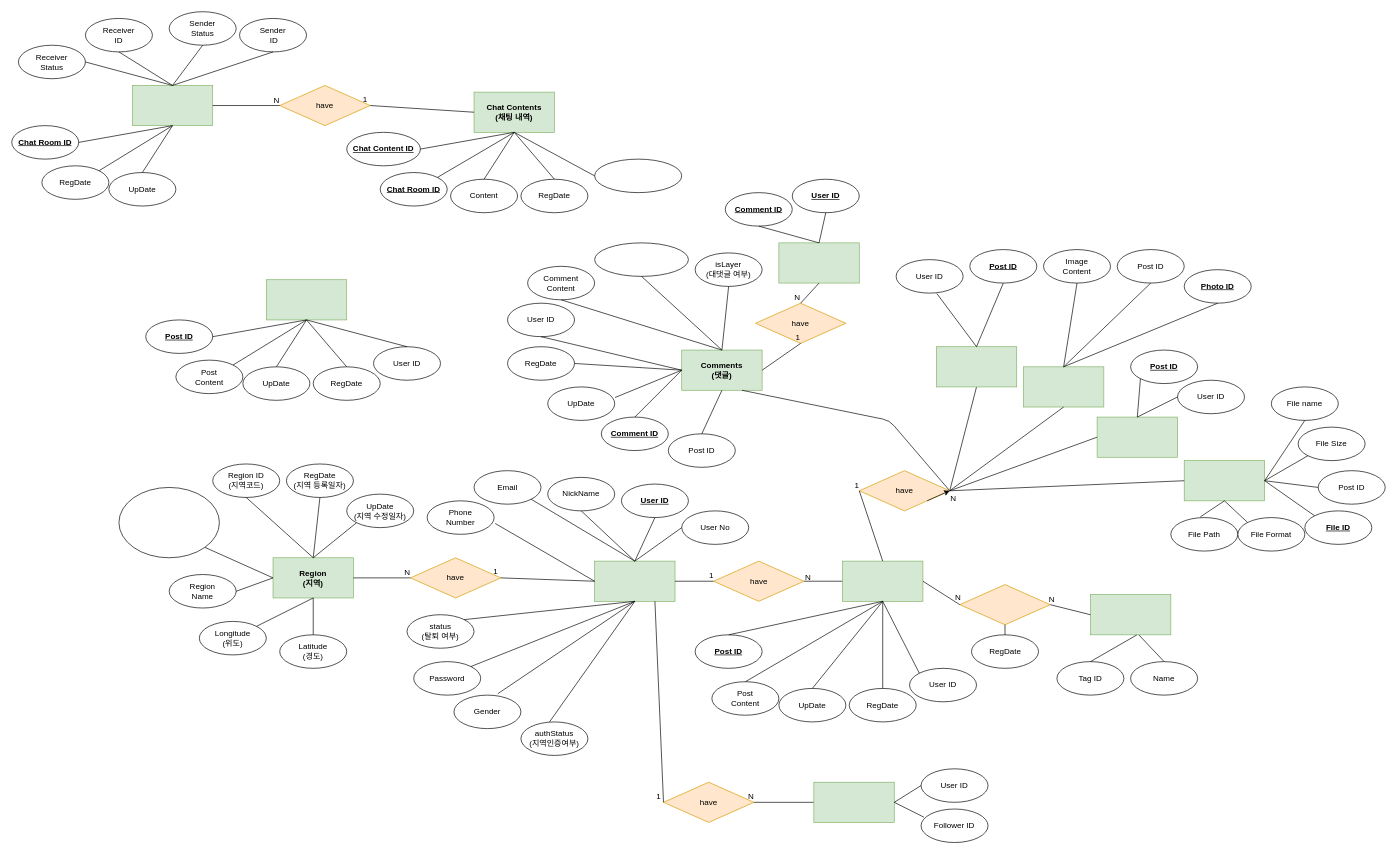
The diagram is 1397 pixels wide and 854 high, and some of its shapes have lost their labels. Each missing label, with the box of its shape:
Address depth1: 시/도 depth2: 시/군/구 depth3: 읍/면/동: (118, 487, 219, 558)
Chat Room (1:1 채팅방): (132, 85, 213, 126)
Comment Group (대댓글 확인용 0~99): (594, 242, 688, 276)
Comments Like (댓글 추천): (778, 242, 859, 283)
Contetn Check Status (읽은여부): (594, 158, 682, 193)
Files (첨부파일): (1184, 460, 1265, 501)
Followers (팔로워): (813, 782, 894, 822)
Notice (공지사항): (266, 279, 347, 320)
Photos (사진): (1023, 366, 1104, 407)
Posts (게시글): (842, 560, 923, 601)
Posts Likes (추천): (936, 346, 1017, 387)
Shares (공유, 스크랩): (1096, 416, 1178, 457)
Tag Post Map: (959, 584, 1050, 625)
Tags (해시태그): (1090, 594, 1171, 635)
Users (사용자): (594, 560, 675, 601)
